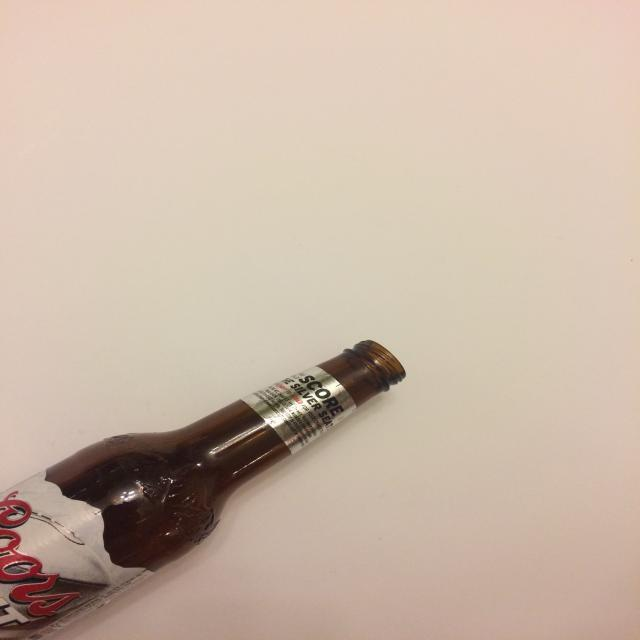glass: (0, 339, 407, 640)
